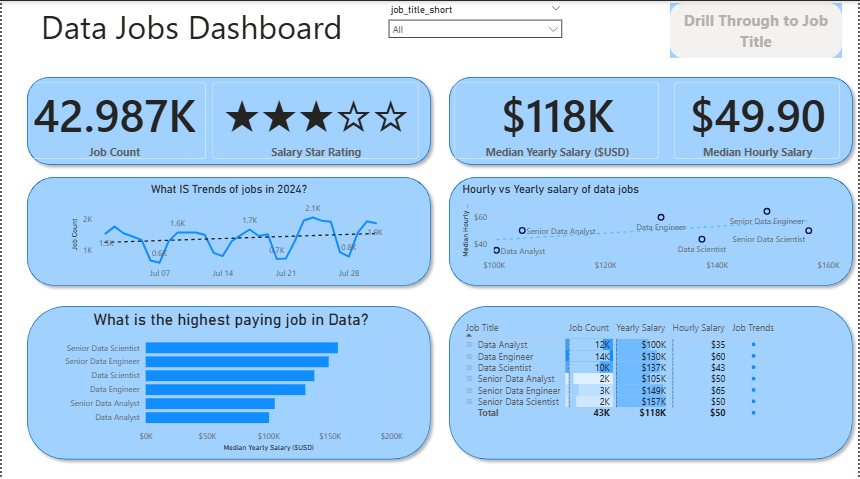

What the dashboard file says about the page in this screenshot:
{"tool":"powerbi","page":{"name":"Data Jobs Dashboard","canvas":[1280,720],"ordinal":0},"visuals":[{"type":"group","id":"g1","title":"Background","box":[28.5,104.6,1251.5,589.3],"z":0},{"type":"shape","box":[28.5,104.6,621,148.9],"z":0,"group":"g1"},{"type":"textbox","box":[0,0,567.1,85.5],"z":1000},{"type":"shape","box":[28.5,253.5,621,180.6],"z":1000,"group":"g1"},{"type":"slicer","fields":{"Values":["job_postings_flat.job_title_short"]},"box":[567.1,0,278.8,85.5],"z":2000},{"type":"shape","box":[659,104.6,621,148.9],"z":2000,"group":"g1"},{"type":"cardVisual","fields":{"Data":["Median(job_postings_flat.salary_year_avg)"]},"box":[658.6,104.3,340,148.6],"z":3000},{"type":"shape","box":[659,253.5,621,180.6],"z":3000,"group":"g1"},{"type":"cardVisual","fields":{"Data":["Median(job_postings_flat.salary_hour_avg)"]},"box":[987.1,104.3,281.4,148.6],"z":4000},{"type":"shape","box":[28.5,446.8,621,247.1],"z":4000,"group":"g1"},{"type":"cardVisual","fields":{"Data":["job_postings_flat.Salary Star Rating"]},"box":[297.1,104.3,342.9,148.6],"z":5000},{"type":"shape","box":[659,446.8,621,247.1],"z":5000,"group":"g1"},{"type":"cardVisual","fields":{"Data":["CountNonNull(job_postings_flat.job_title_short)"]},"box":[11.4,104.3,310,148.6],"z":6000},{"type":"lineChart","title":"What IS Trends of jobs in 2024?","fields":{"Category":["job_postings_flat.job_posted_date.Variation.Date Hierarchy.Year","job_postings_flat.job_posted_date.Variation.Date Hierarchy.Quarter","job_postings_flat.job_posted_date.Variation.Date Hierarchy.Month","job_postings_flat.job_posted_date.Variation.Date Hierarchy.Day"],"Y":["CountNonNull(job_postings_flat.job_title_short)"]},"box":[98.6,270.4,481,153.9],"z":7000},{"type":"scatterChart","title":"Hourly vs Yearly salary of data jobs","fields":{"X":["Median(job_postings_flat.salary_year_avg)"],"Y":["Median(job_postings_flat.salary_hour_avg)"],"Series":["job_postings_flat.job_title_short"]},"box":[682.7,270.4,573.6,141.9],"z":8000},{"type":"pivotTable","fields":{"Rows":["job_postings_flat.job_title_short","job_postings_flat.job_posted_date.Variation.Date Hierarchy.Quarter"],"Values":["CountNonNull(job_postings_flat.job_title_short)","Median(job_postings_flat.salary_year_avg)","Median(job_postings_flat.salary_hour_avg)","SparklineData(CountNonNull(job_postings_flat.job_title_short)_[job_postings_flat.job_posted_date.Variation.Date Hierarch"]},"box":[682.7,473.5,573.6,194.2],"z":9000},{"type":"barChart","title":"What is the highest paying job in Data?","fields":{"Category":["job_postings_flat.job_title_short"],"Y":["Median(job_postings_flat.salary_year_avg)"]},"box":[80,461.4,522.9,215.7],"z":10000},{"type":"actionButton","box":[998,3.2,256.6,82.4],"z":11000}]}

Visuals, with their boxes in screenshot pixels (x1, y1, x2, y2), scaled from the page's 1280x720 canvas onto the 860x479 screenshot:
"Background" group: (left=19, top=70, right=859, bottom=462)
shape: (left=19, top=70, right=436, bottom=169)
textbox: (left=0, top=0, right=381, bottom=57)
shape: (left=19, top=169, right=436, bottom=289)
slicer - job_postings_flat.job_title_short: (left=381, top=0, right=568, bottom=57)
shape: (left=443, top=70, right=859, bottom=169)
cardVisual - Median(job_postings_flat.salary_year_avg): (left=442, top=69, right=671, bottom=168)
shape: (left=443, top=169, right=859, bottom=289)
cardVisual - Median(job_postings_flat.salary_hour_avg): (left=663, top=69, right=852, bottom=168)
shape: (left=19, top=297, right=436, bottom=462)
cardVisual - job_postings_flat.Salary Star Rating: (left=200, top=69, right=430, bottom=168)
shape: (left=443, top=297, right=859, bottom=462)
cardVisual - CountNonNull(job_postings_flat.job_title_short): (left=8, top=69, right=216, bottom=168)
"What IS Trends of jobs in 2024?" lineChart: (left=66, top=180, right=389, bottom=282)
"Hourly vs Yearly salary of data jobs" scatterChart: (left=459, top=180, right=844, bottom=274)
pivotTable - job_postings_flat.job_title_short x job_postings_flat.job_posted_date.Variation.Date Hierarchy.Quarter: (left=459, top=315, right=844, bottom=444)
"What is the highest paying job in Data?" barChart: (left=54, top=307, right=405, bottom=450)
actionButton: (left=671, top=2, right=843, bottom=57)
